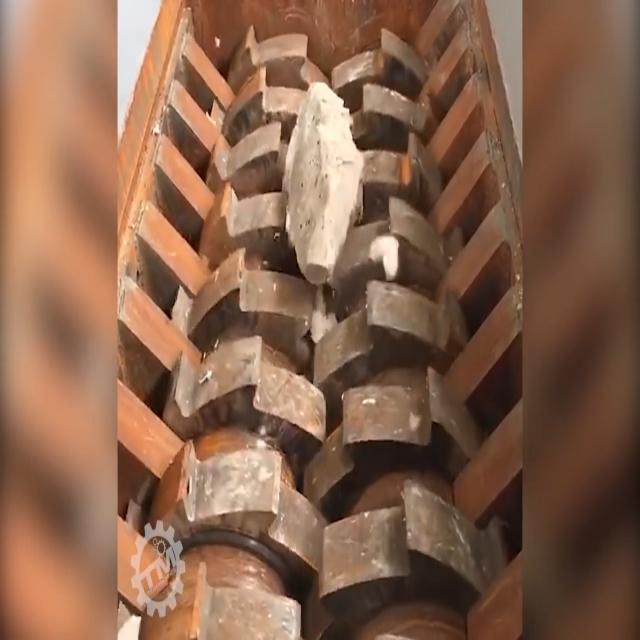Broyeur: (118, 0, 521, 640)
